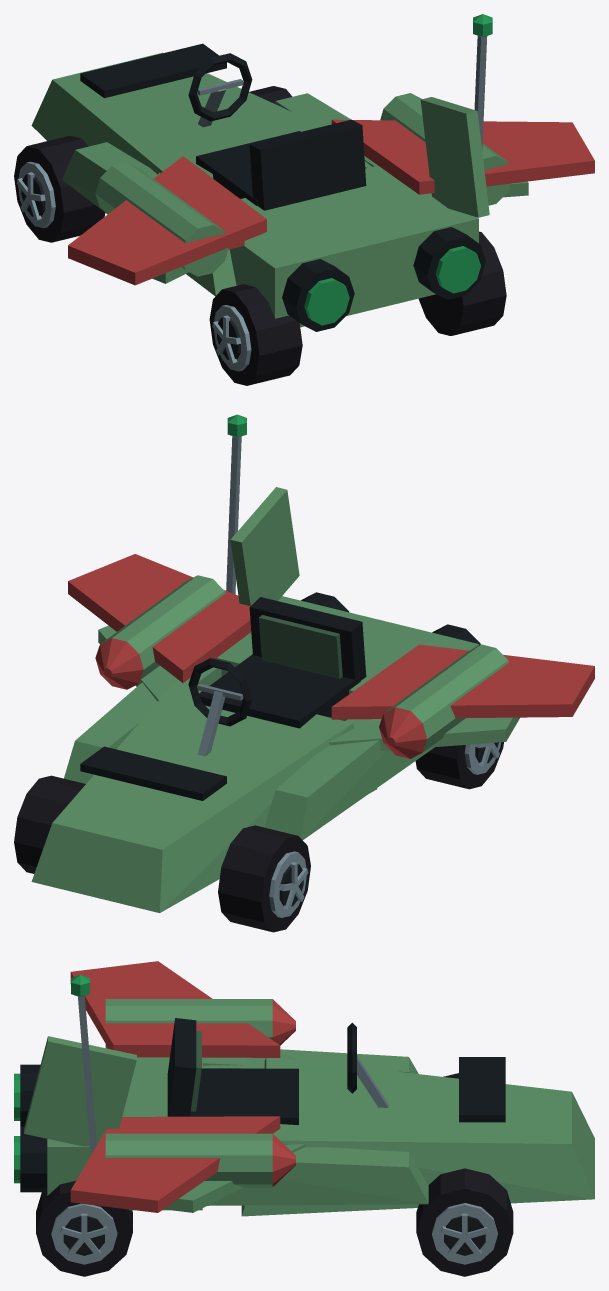
File: kart.glb
3 views of the same model, one above another, from view 1: azimuth 30°, elevation 25°; view 2: azimuth 150°, elevation 25°; view 3: azimuth 270°, elevation 25° (orthographic). The views are drawn at different scales.
Visible parts, largest first — view 1: identity-shuttle-shuttle-flight-planform, identity-shuttle-motif-wings, identity-shuttle-driver-cockpit, identity-shuttle-motif-rocket, wheel-rear-left, wheel-front-left, wheel-rear-right, identity-shuttle-motif-antenna; view 2: identity-shuttle-shuttle-flight-planform, identity-shuttle-motif-wings, identity-shuttle-driver-cockpit, identity-shuttle-motif-rocket, wheel-front-left, wheel-front-right, wheel-rear-left, identity-shuttle-motif-antenna; view 3: identity-shuttle-shuttle-flight-planform, identity-shuttle-motif-wings, identity-shuttle-motif-rocket, identity-shuttle-driver-cockpit, wheel-front-right, wheel-rear-right, identity-shuttle-motif-antenna.
Boxes of the visible parts, bbox=[...] form: identity-shuttle-shuttle-flight-planform: bbox=[31, 43, 528, 331]; identity-shuttle-motif-wings: bbox=[68, 119, 594, 285]; identity-shuttle-driver-cockpit: bbox=[188, 53, 366, 210]; identity-shuttle-motif-rocket: bbox=[95, 93, 510, 276]; wheel-rear-left: bbox=[209, 284, 302, 385]; wheel-front-left: bbox=[14, 135, 105, 242]; wheel-rear-right: bbox=[418, 231, 506, 335]; identity-shuttle-motif-antenna: bbox=[473, 14, 492, 150]; identity-shuttle-shuttle-flight-planform: bbox=[31, 487, 519, 912]; identity-shuttle-motif-wings: bbox=[68, 554, 594, 719]; identity-shuttle-driver-cockpit: bbox=[188, 597, 366, 756]; identity-shuttle-motif-rocket: bbox=[95, 575, 508, 758]; wheel-front-left: bbox=[218, 825, 310, 932]; wheel-front-right: bbox=[14, 775, 85, 873]; wheel-rear-left: bbox=[415, 742, 503, 789]; identity-shuttle-motif-antenna: bbox=[226, 414, 246, 594]; identity-shuttle-shuttle-flight-planform: bbox=[14, 1036, 594, 1216]; identity-shuttle-motif-wings: bbox=[70, 961, 280, 1212]; identity-shuttle-motif-rocket: bbox=[105, 999, 295, 1187]; identity-shuttle-driver-cockpit: bbox=[167, 1018, 388, 1125]; wheel-front-right: bbox=[416, 1168, 513, 1276]; wheel-rear-right: bbox=[36, 1180, 132, 1276]; identity-shuttle-motif-antenna: bbox=[71, 974, 96, 1154].
Bounding box in the file's own units: 2.92 × 1.72 × 2.99.
